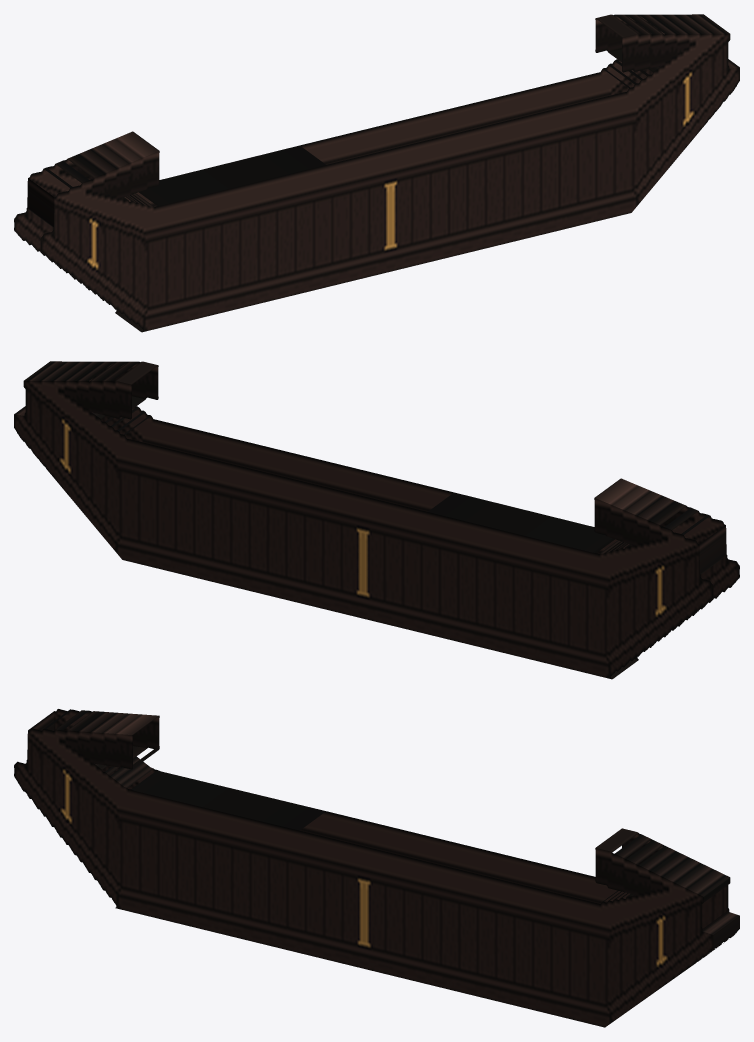
The model's file is BarTest.fbx.
3 views of the same model, one above another, from view 1: azimuth 30°, elevation 25°; view 2: azimuth 150°, elevation 25°; view 3: azimuth 330°, elevation 25° (orthographic).
Visible parts, largest first — view 1: Plane; view 2: Plane; view 3: Plane.
Boxes of the visible parts, bbox=[...] form: Plane: bbox=[14, 14, 739, 332]; Plane: bbox=[14, 361, 739, 679]; Plane: bbox=[14, 709, 739, 1027].
Size of the model in its own units: 759 by 184 by 50.
